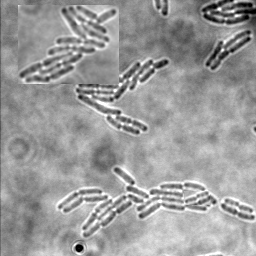Dividing: (219, 204, 255, 222), (223, 199, 253, 215), (184, 191, 210, 205)
Microcolony: (57, 167, 216, 238), (18, 5, 119, 84), (75, 59, 169, 136), (204, 30, 251, 72), (200, 1, 255, 26)
